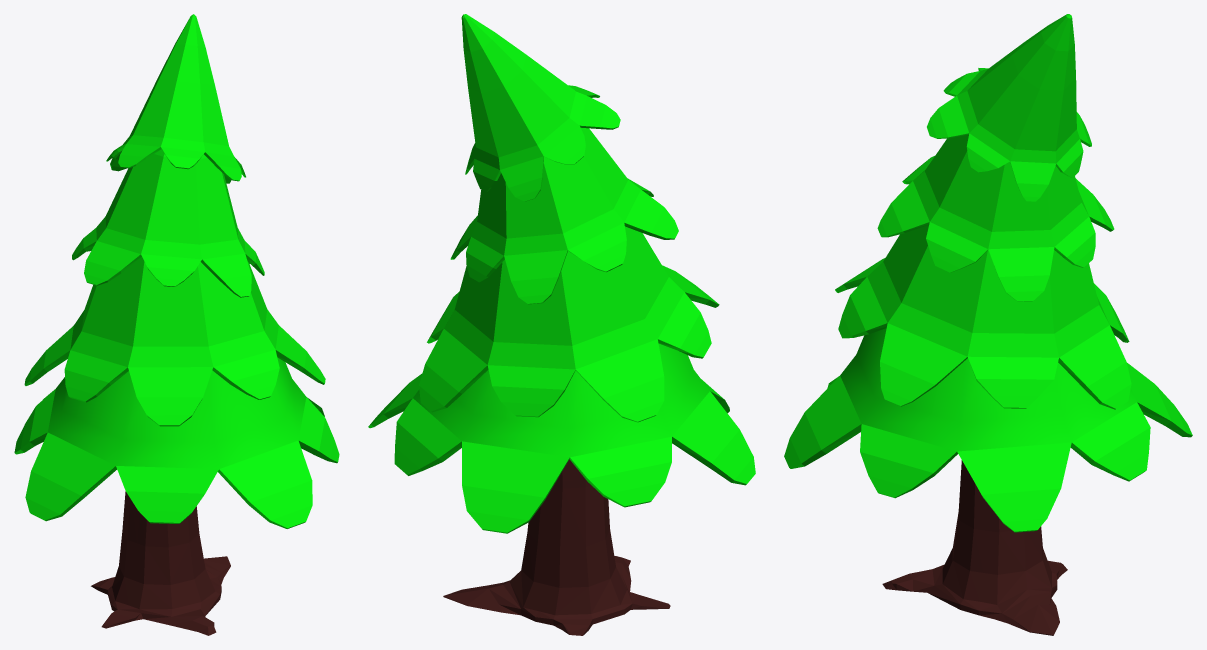
The model's file is 4_TortMunt.FBX.
3 renders of one model, left to right at view 1: azimuth 30°, elevation 25°; view 2: azimuth 150°, elevation 25°; view 3: azimuth 270°, elevation 25°, orthographic. The views are drawn at different scales.
Visible parts, largest first — view 1: 4_TORTMunt; view 2: 4_TORTMunt; view 3: 4_TORTMunt.
Boxes of the visible parts, left/top/right/bottom form: 4_TORTMunt: left=14, top=14, right=339, bottom=635; 4_TORTMunt: left=368, top=14, right=755, bottom=635; 4_TORTMunt: left=784, top=14, right=1192, bottom=635.
Bounding box in the file's own units: 1.33 × 2.18 × 1.33.
